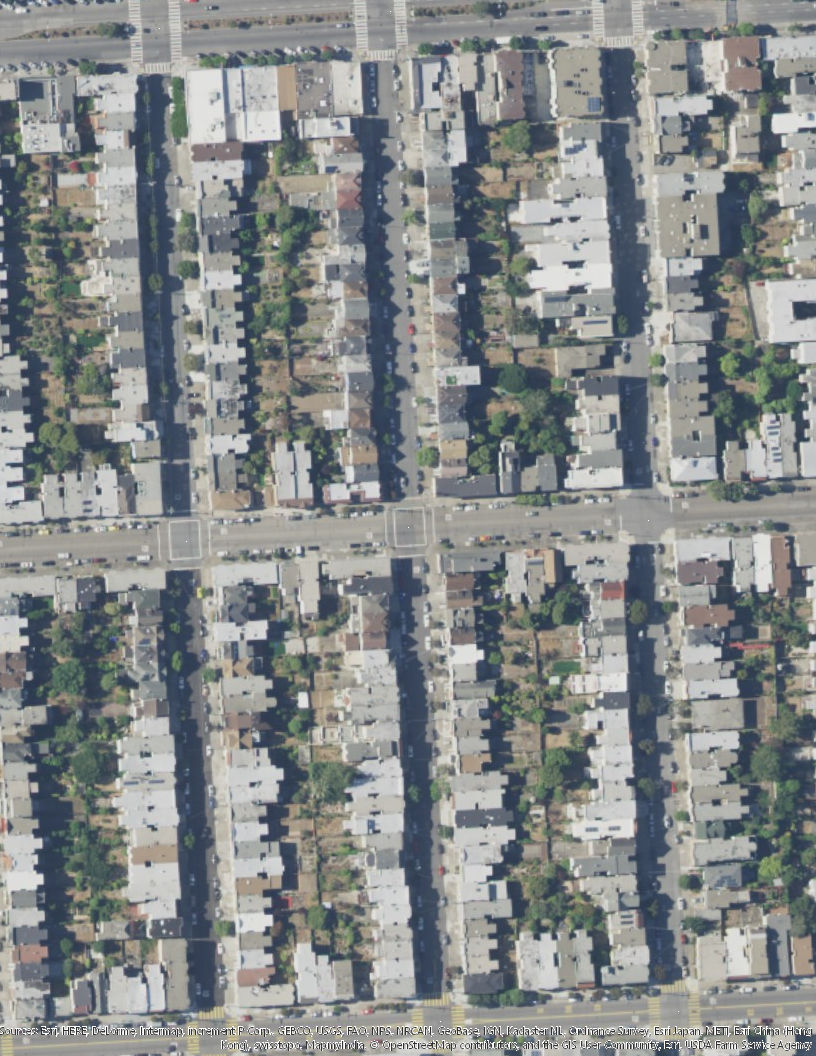zebracross: (164, 1, 182, 63), (129, 1, 144, 64), (391, 2, 410, 48), (354, 1, 369, 52), (627, 1, 646, 37), (591, 1, 606, 38), (140, 60, 170, 76), (423, 992, 453, 1008), (368, 47, 396, 64), (197, 1006, 226, 1022), (186, 1023, 200, 1054), (688, 993, 700, 1027), (660, 979, 687, 994), (225, 1022, 239, 1050), (648, 997, 661, 1027), (451, 1006, 468, 1028), (605, 34, 633, 47), (410, 1008, 421, 1030)
